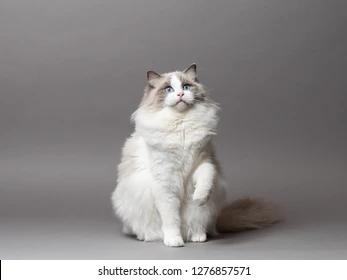ragdoll: (145, 56, 213, 121)
